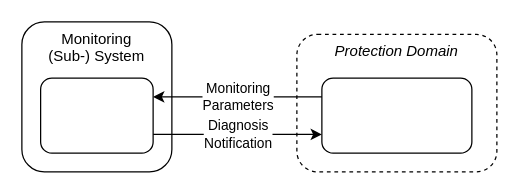
Some shapes in this 519 by 194 pixel diagram are drawn without their labels. The shapes that lost their labels are listed below. From the top down, each one's centre as x and y in pixels, then its label:
At [96,115]: "Predictive Analysis".
At [396,115]: "Monitored (Sub-) System".
